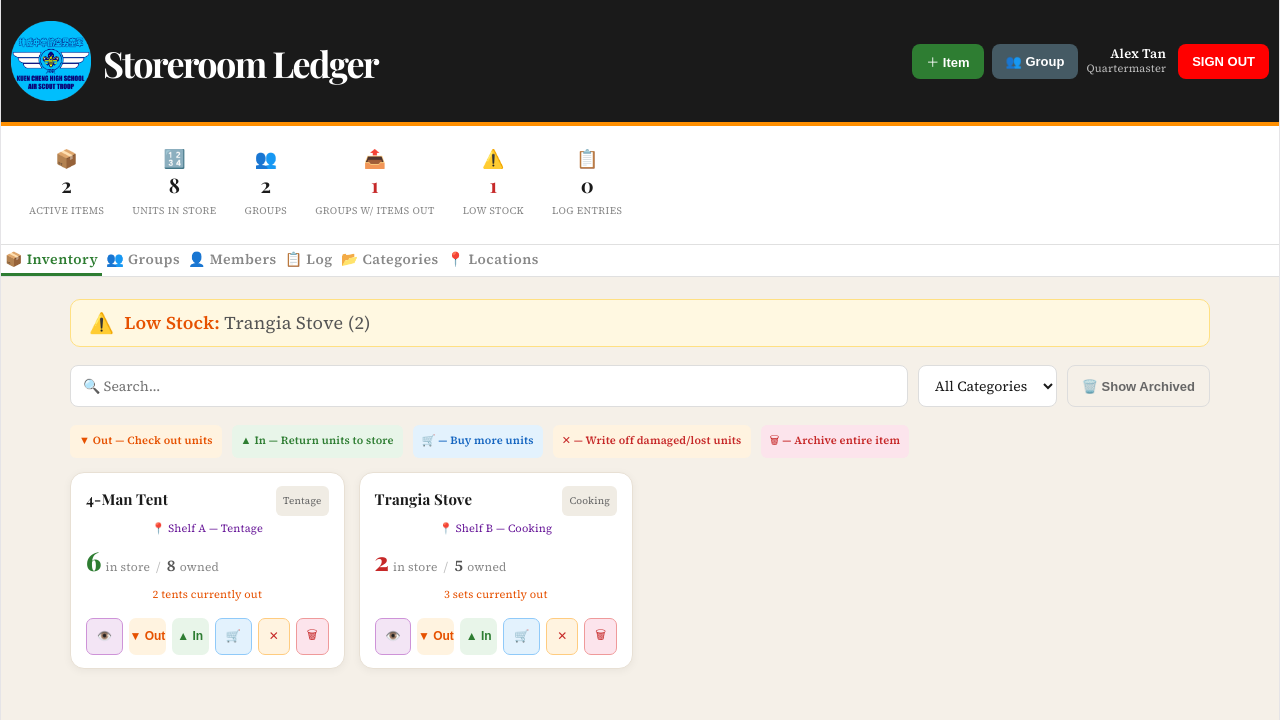
Scenario: inventory card opens the right modal › opens Write Off
Expected: the heading "4-Man Tent" is shown, [86,486,168,512]
Step 1. Click the button titled "write off" below "tents" → point(274, 636), box [258,618,290,655]
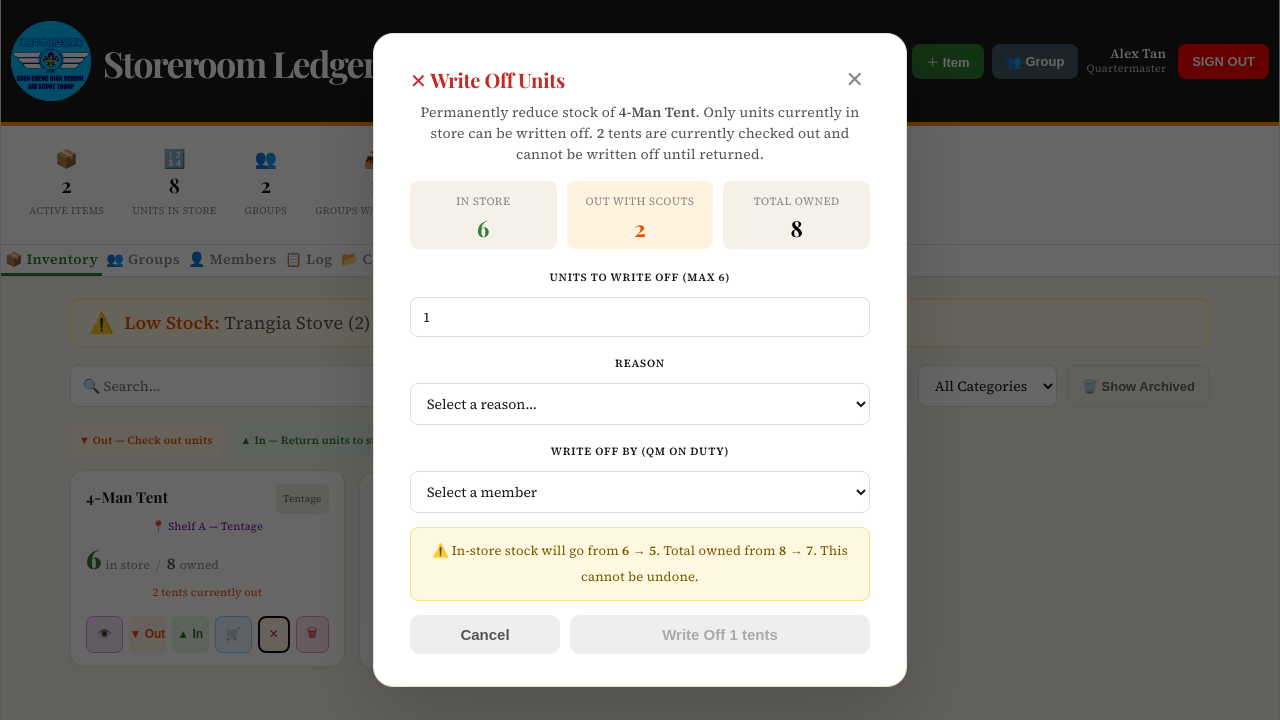
Expected: the heading "✕ Write Off Units" is shown, [410,68,565,92]
